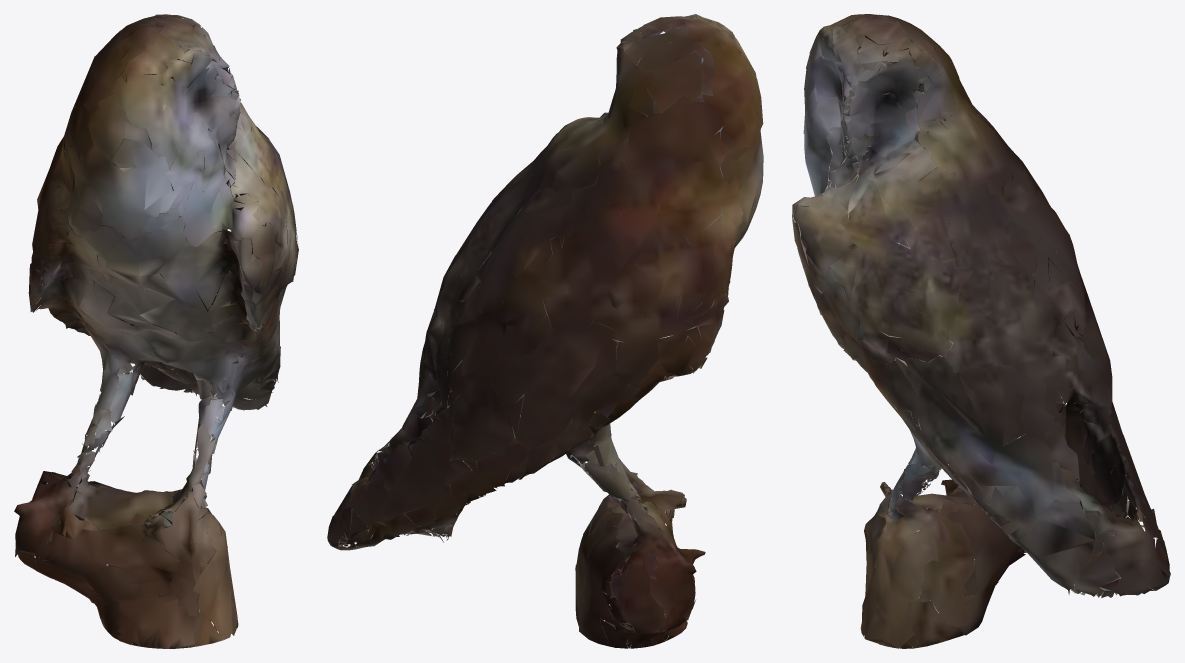
The model's file is ave_common_barn_owl.glb.
3 views of the same model, side by side, from view 1: azimuth 30°, elevation 25°; view 2: azimuth 150°, elevation 25°; view 3: azimuth 270°, elevation 25° (orthographic). The views are drawn at different scales.
Visible parts, largest first — view 1: material0-material; view 2: material0-material; view 3: material0-material.
Part boxes in pixels (x1,y1,x2,y2): material0-material: (14,14,298,648); material0-material: (327,14,763,648); material0-material: (792,14,1170,648).
Size of the model in its own units: 0.2824 by 0.5505 by 0.3201.
1 material, 1 textured.
